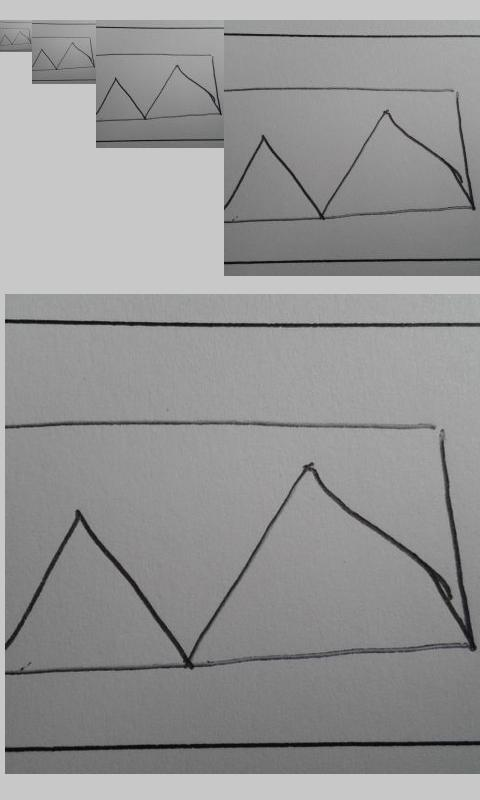image_view: (9, 418, 476, 685), (224, 84, 480, 226), (96, 52, 222, 122), (32, 35, 96, 72), (1, 27, 31, 47)
